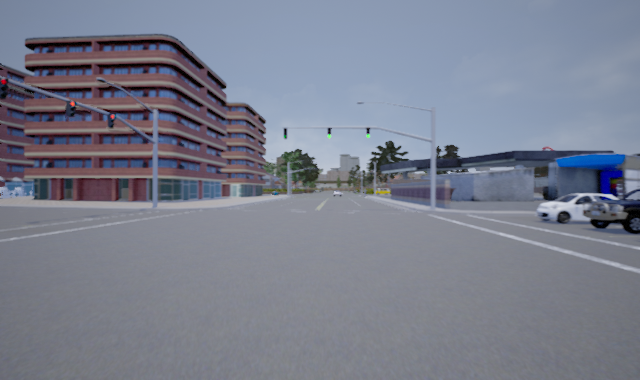vehicle: (536, 193, 630, 224), (586, 185, 639, 234)
